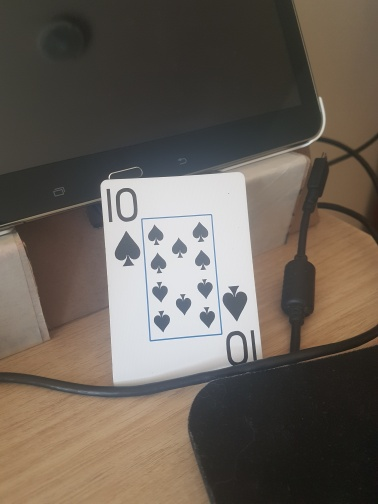ten: (100, 172, 265, 388)
